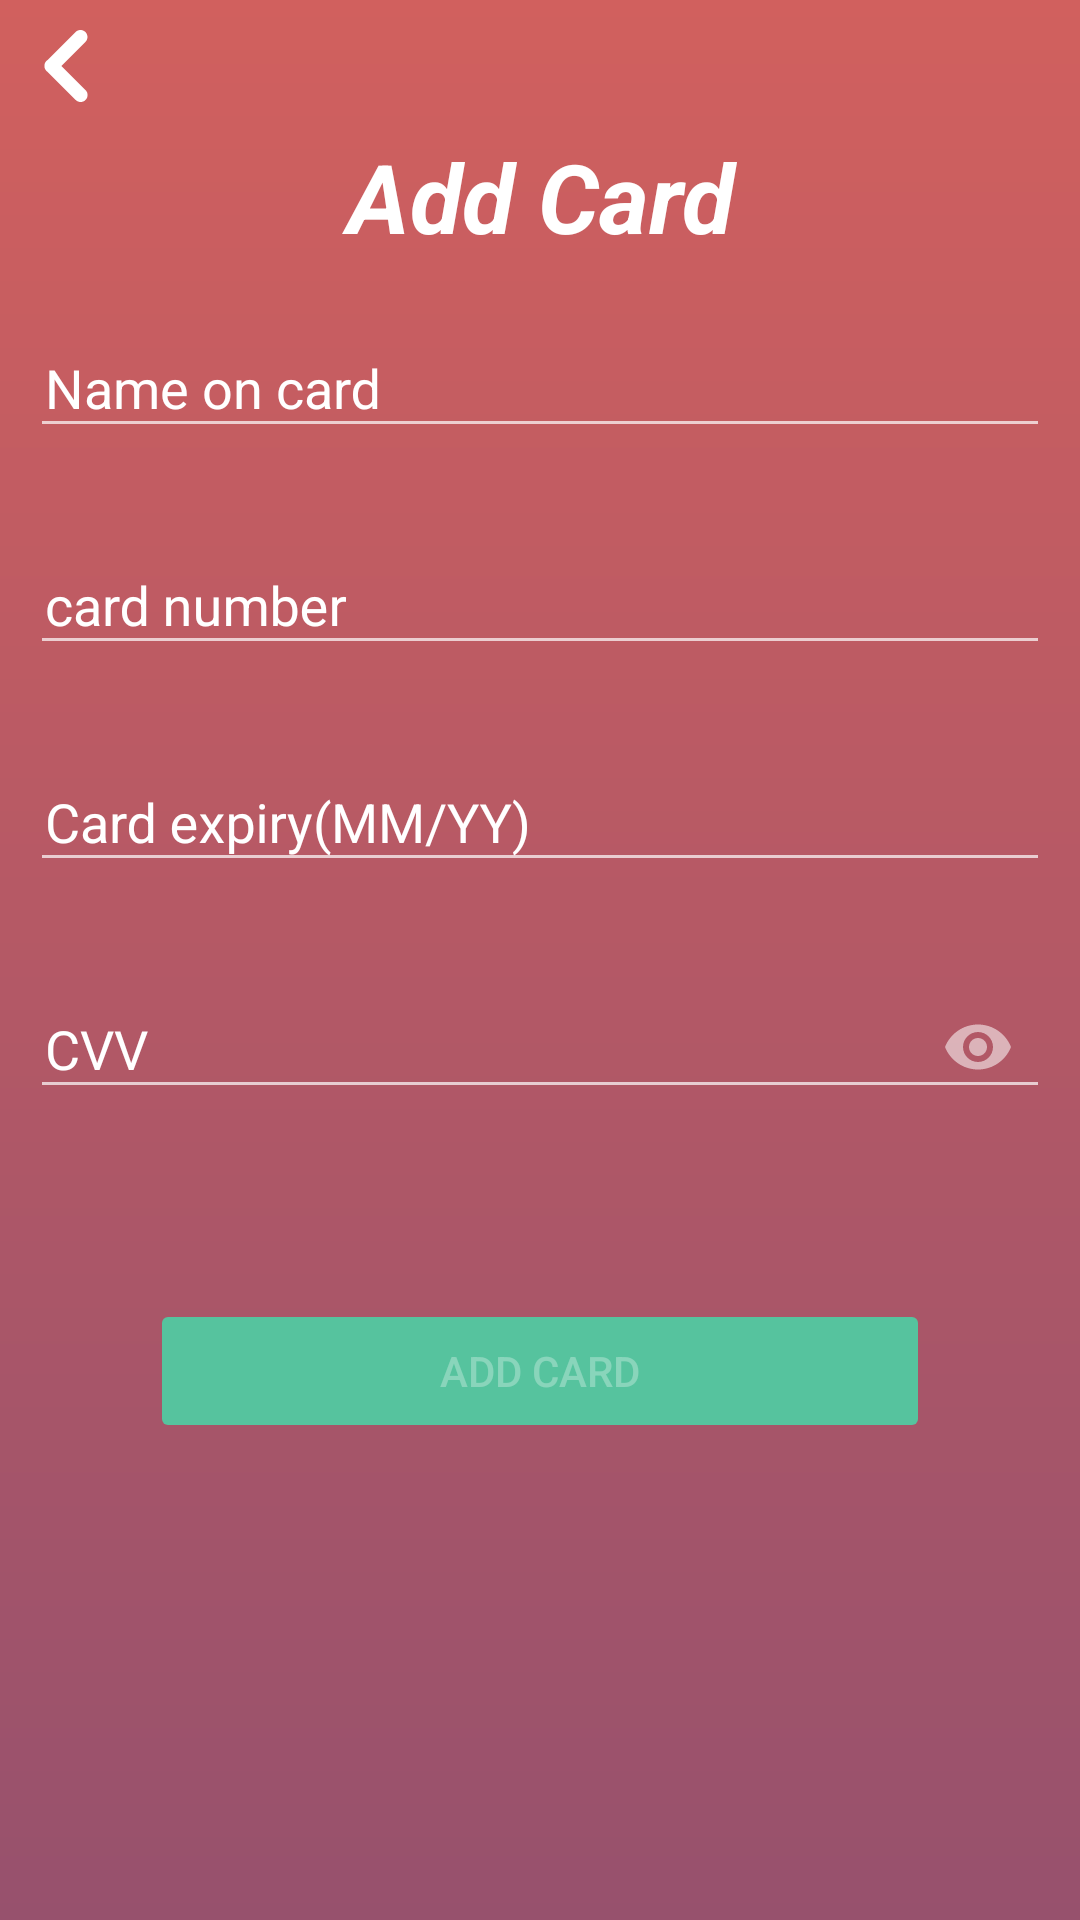

Point at icon controls on the screen. Image size 1080*1920, points as point (x, y).
back: point (66, 66)
